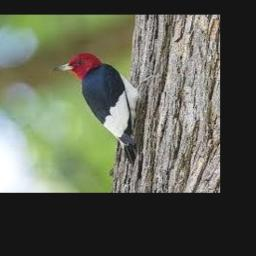Woodpecker: (53, 52, 152, 164)
